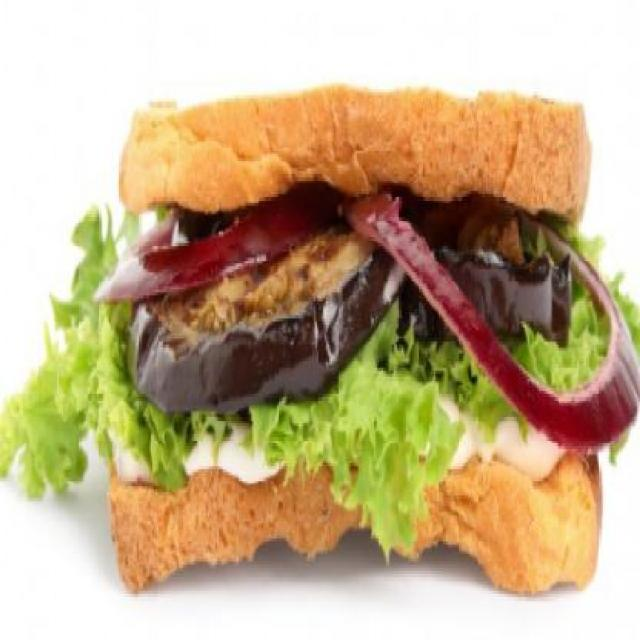eggplant: (122, 197, 578, 400)
french toast: (111, 443, 606, 588), (123, 86, 591, 203)
hummus: (109, 404, 566, 496)
